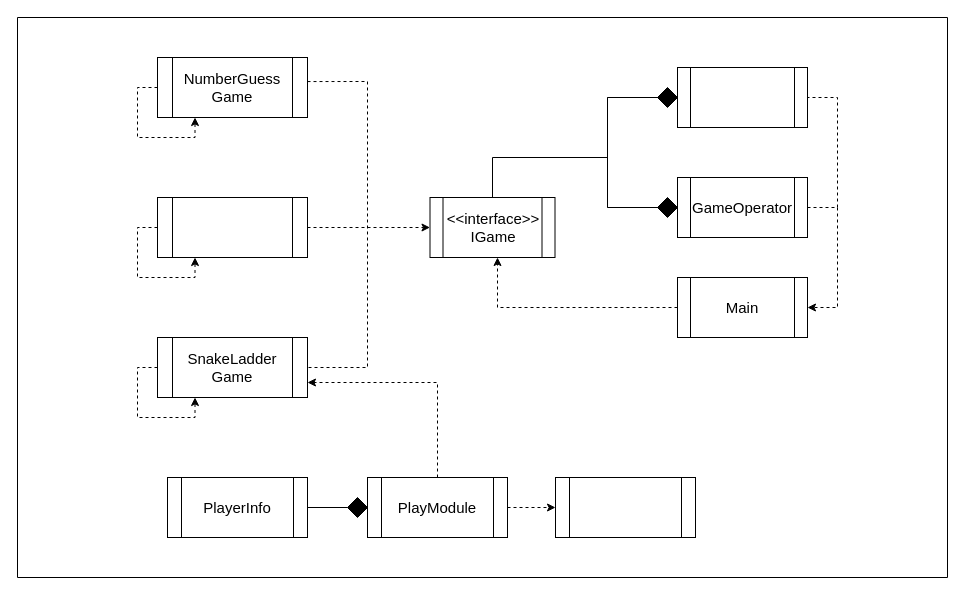
Image size: 966x596. Some labels were removed from this diagram. The box of each missing label's shape, as (x1, y1, x2, y2) in pixels:
BoardInfo: (554, 476, 696, 538)
GameSelector: (676, 66, 808, 128)
WordGuess Game: (156, 196, 308, 258)
